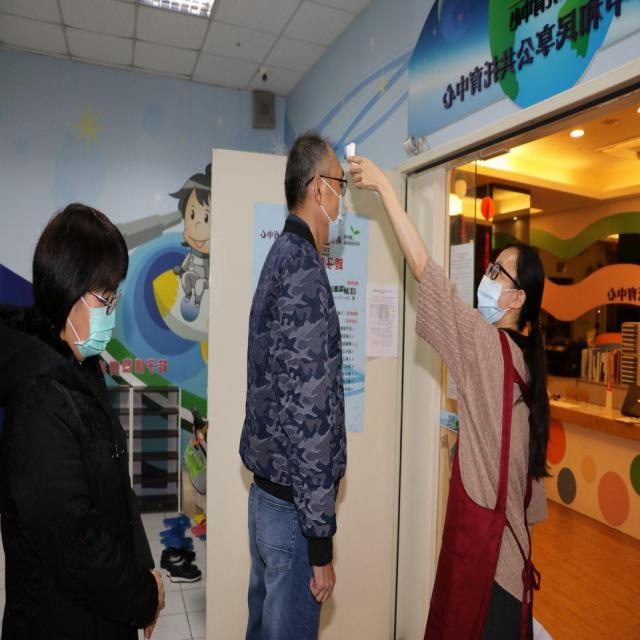face: (67, 273, 122, 366), (476, 246, 534, 332), (304, 140, 349, 244)
